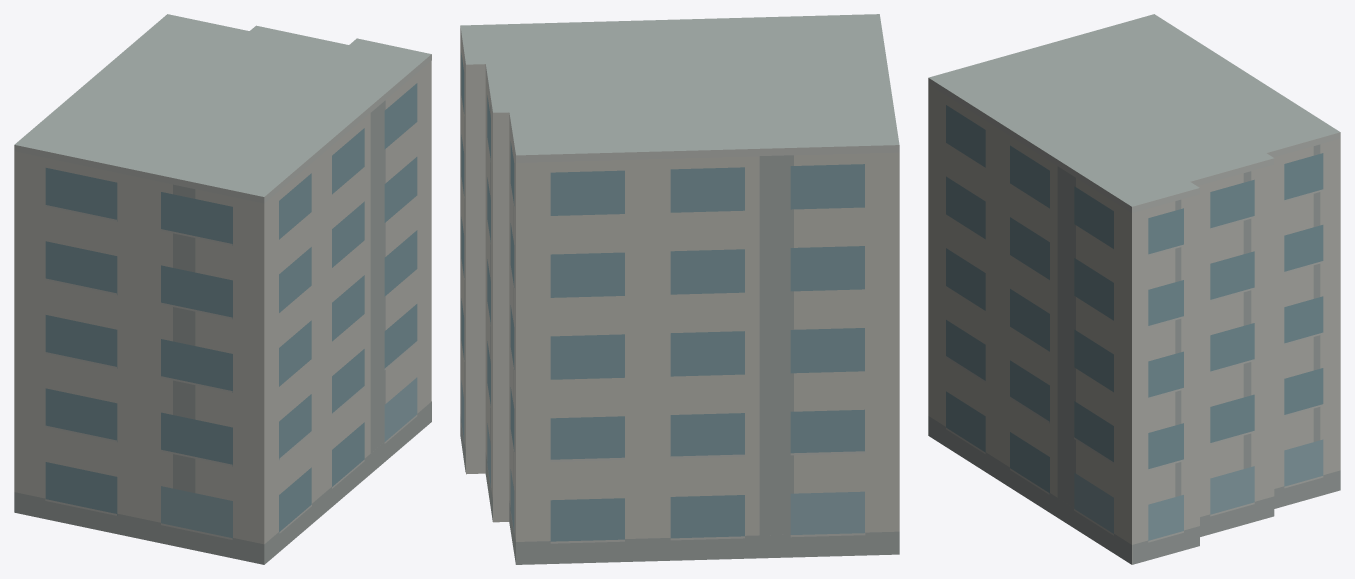
Rendered from residential-e60840ff-a8ef-41aa-9d56-bf0033fe56f0.glb.
3 views of the same model, side by side, from view 1: azimuth 30°, elevation 25°; view 2: azimuth 150°, elevation 25°; view 3: azimuth 270°, elevation 25° (orthographic). The views are drawn at different scales.
Visible parts, largest first — view 1: residential-e60840ff-a8ef-41aa-9d56-bf0033fe56f0.tmp; view 2: residential-e60840ff-a8ef-41aa-9d56-bf0033fe56f0.tmp; view 3: residential-e60840ff-a8ef-41aa-9d56-bf0033fe56f0.tmp.
Part boxes in pixels (x1,y1,x2,y2): residential-e60840ff-a8ef-41aa-9d56-bf0033fe56f0.tmp: (14, 14, 431, 564); residential-e60840ff-a8ef-41aa-9d56-bf0033fe56f0.tmp: (460, 14, 899, 564); residential-e60840ff-a8ef-41aa-9d56-bf0033fe56f0.tmp: (928, 14, 1340, 564).
Size of the model in its own units: 15.72 by 13.6 by 14.2.
